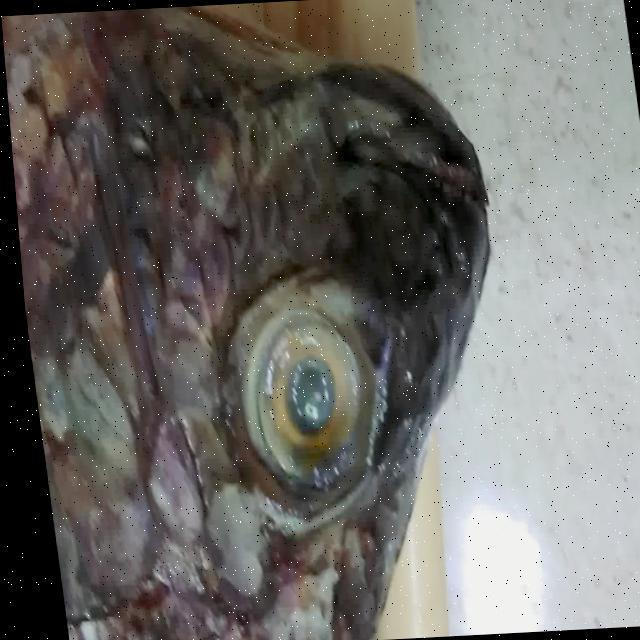Non-Fresh: (184, 260, 402, 532)
